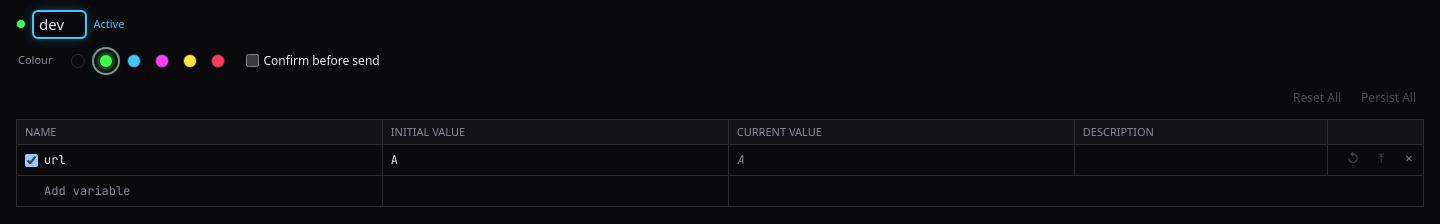
it: EnvironmentTab › opens the name editor from the keyboard and Escape puts the saved name back
The width and height of the screenshot is (1440, 224).
Press Enter
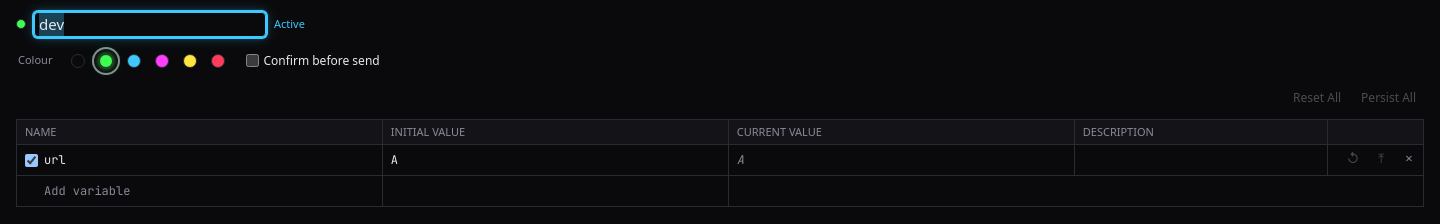
Type "2" into the field named "Rename environment" at (150, 24), box [34, 12, 266, 36]
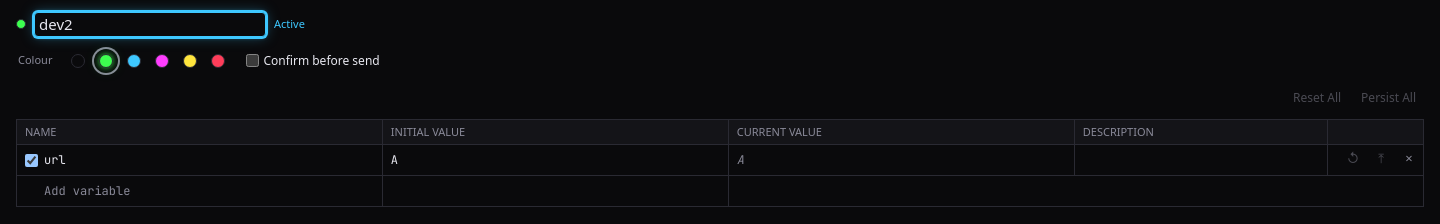
Press Escape
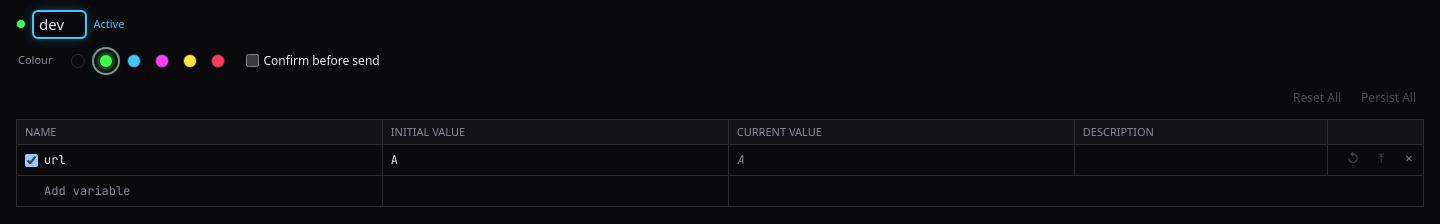
Check: the button with aria-label "Rename environment" reads "dev", box [34, 12, 86, 36]
